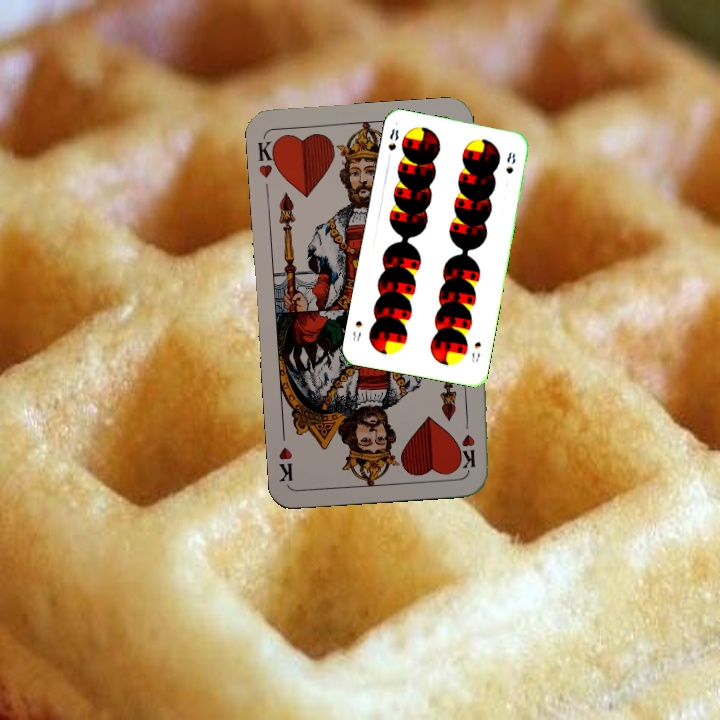HK: (254, 134, 282, 180), (459, 411, 478, 471)
S8: (384, 125, 401, 163), (468, 337, 484, 365)
